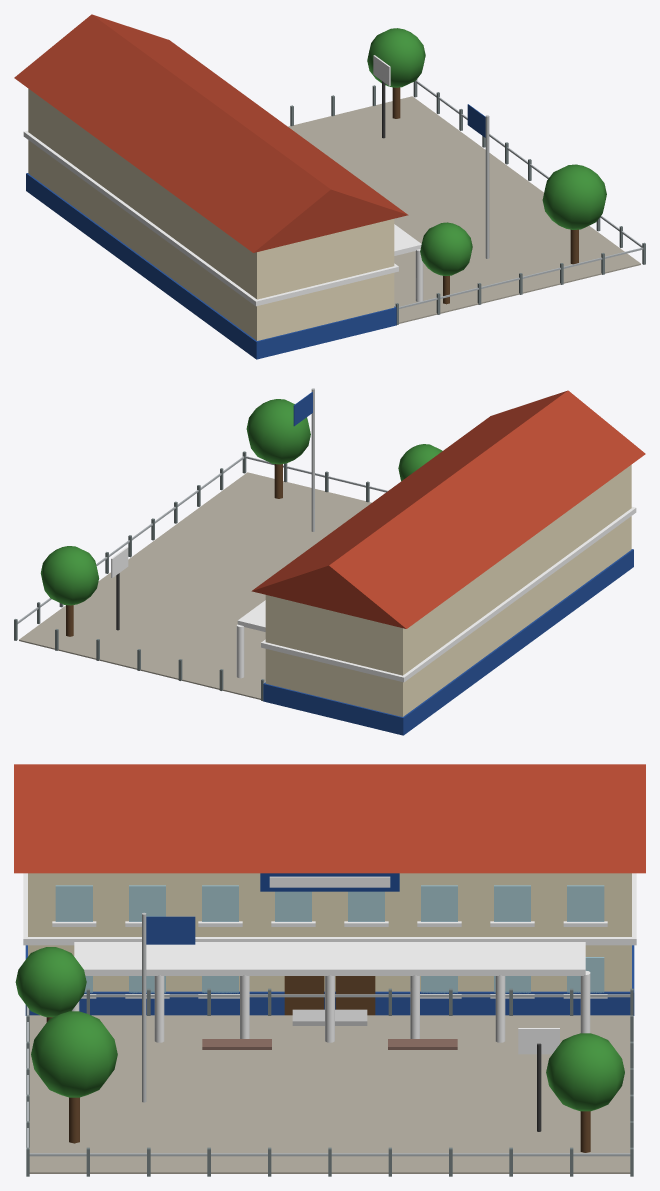
File: school.glb
3 renders of one model, top to bottom at view 1: azimuth 30°, elevation 25°; view 2: azimuth 150°, elevation 25°; view 3: azimuth 270°, elevation 25°, orthographic. The views are drawn at different scales.
Visible parts, largest first — view 1: village-school; view 2: village-school; view 3: village-school.
Boxes of the visible parts, bbox=[...] form: village-school: bbox=[14, 14, 645, 359]; village-school: bbox=[14, 388, 645, 735]; village-school: bbox=[14, 764, 645, 1176].
Size of the model in its own units: 26.07 by 9.8 by 27.2.
